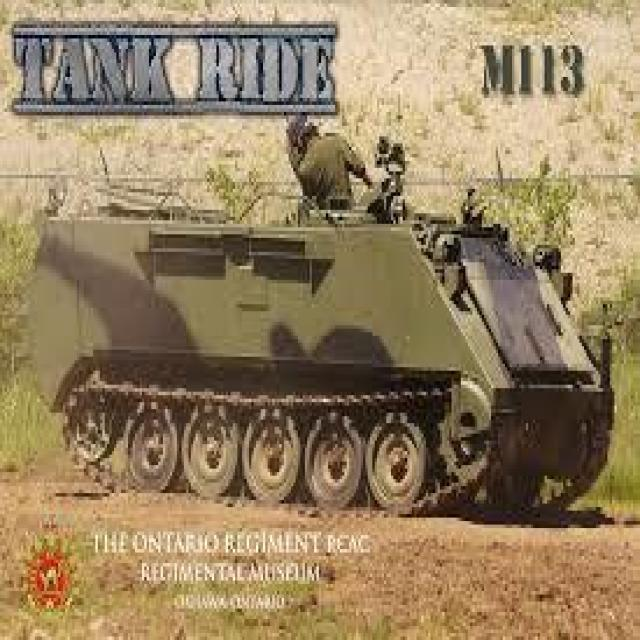Tanks: (28, 170, 617, 522)
